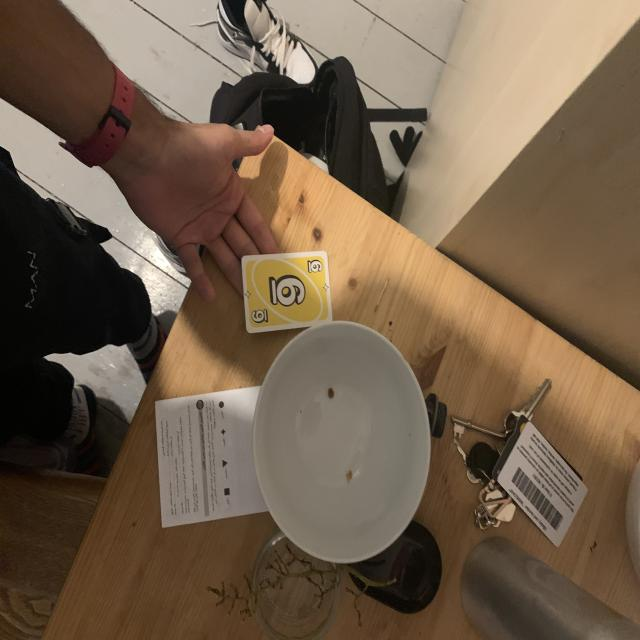lyellow-6: (302, 253, 327, 282)
